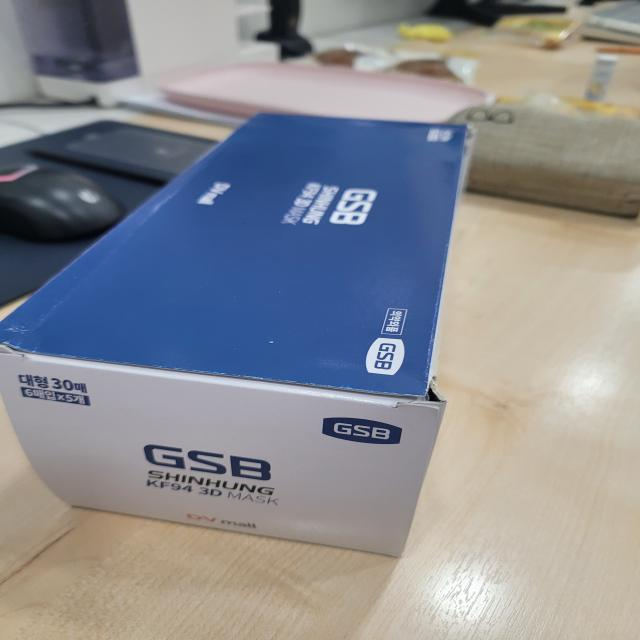mask: (0, 93, 515, 585)
